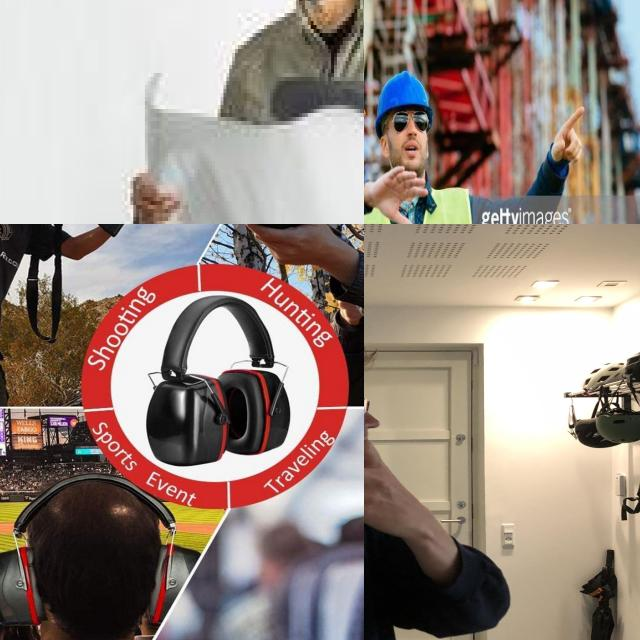Ear-protection: (0, 467, 220, 640)
No_Ear-Protection: (377, 132, 391, 160)
face_nomask: (381, 111, 437, 177)
glasses: (391, 108, 431, 138)
hand_noglove: (368, 167, 430, 224), (550, 102, 589, 169)
head_helmet: (377, 76, 431, 112)
person: (364, 224, 521, 640), (364, 76, 497, 224), (0, 224, 87, 401)
